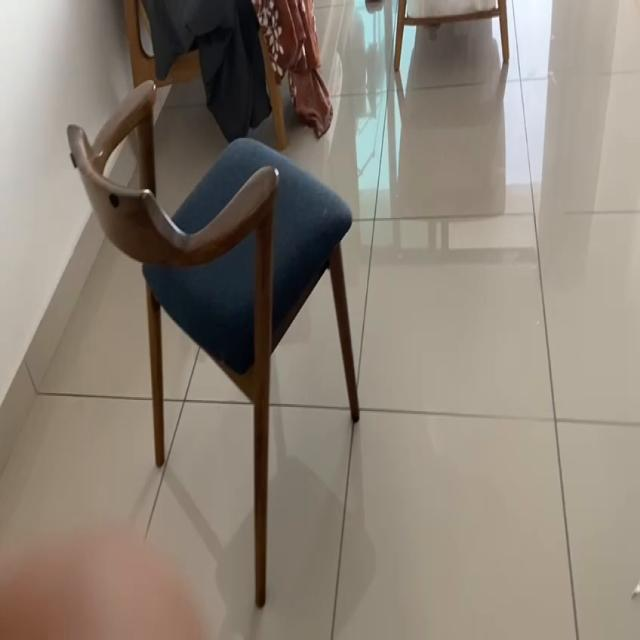Chair: (67, 61, 376, 608)
